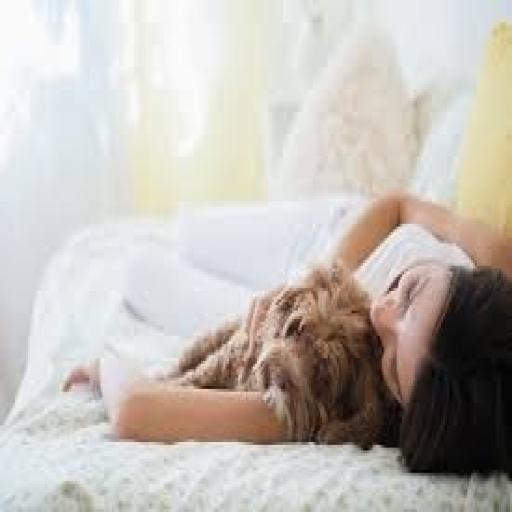sleeping: (60, 184, 510, 478)
